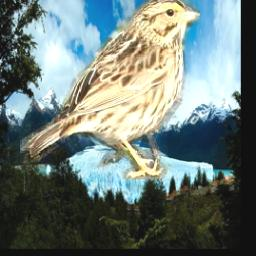Sparrow: (21, 0, 201, 180)
